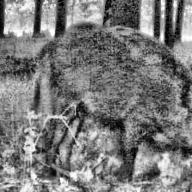boar: (17, 6, 192, 191)
